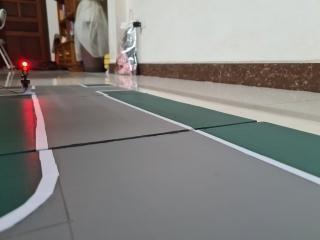red: (15, 54, 34, 87)
